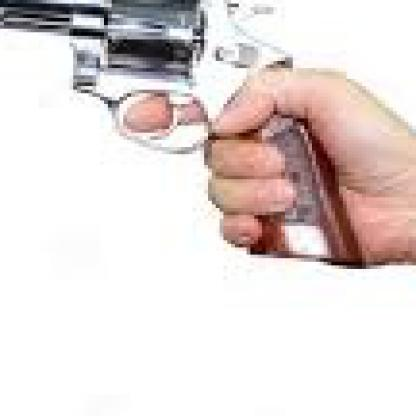gun: (0, 0, 362, 276)
